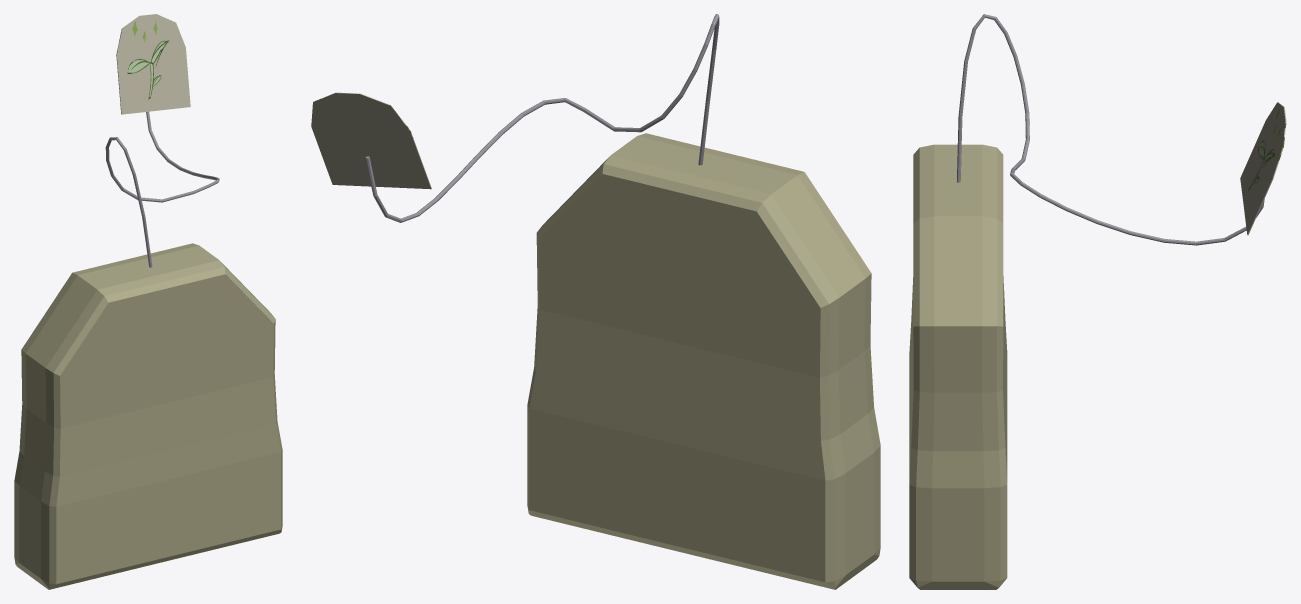
Rendered from teabag.glb.
3 renders of one model, left to right at view 1: azimuth 30°, elevation 25°; view 2: azimuth 150°, elevation 25°; view 3: azimuth 270°, elevation 25°, orthographic. The views are drawn at different scales.
Parts seen in each view (by area): view 1: Teabag, Tag, String; view 2: Teabag, Tag, String; view 3: Teabag, Tag, String.
Part boxes in pixels (<box>): Teabag: <box>14,243,282,589</box>; Tag: <box>116,14,190,114</box>; String: <box>105,111,219,267</box>; Teabag: <box>527,133,880,589</box>; Tag: <box>311,92,431,189</box>; String: <box>365,14,719,222</box>; Teabag: <box>909,144,1007,589</box>; Tag: <box>1240,102,1286,235</box>; String: <box>957,14,1264,245</box>.
Bounding box in the file's own units: 0.6609 × 0.9137 × 0.625.
4 materials, 1 textured.
